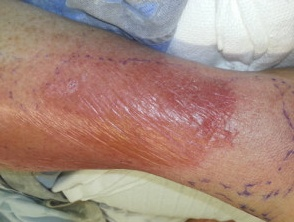SJS-TEN: (0, 44, 244, 188)
